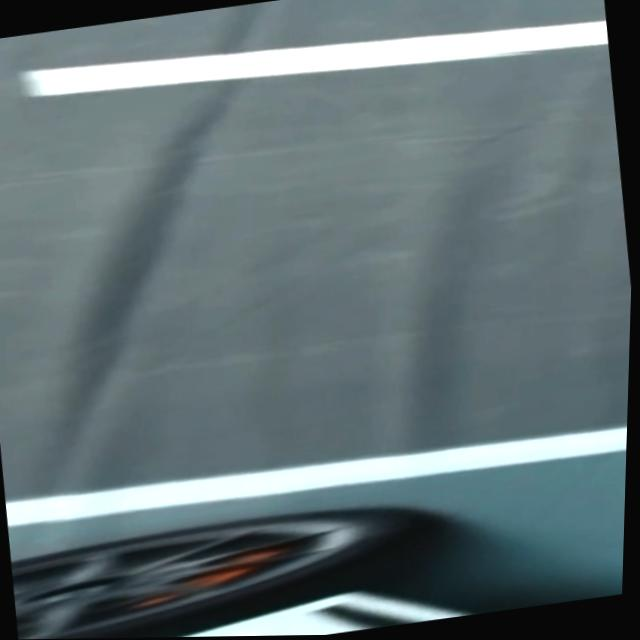center: (22, 20, 607, 95)
left: (5, 425, 627, 526)
